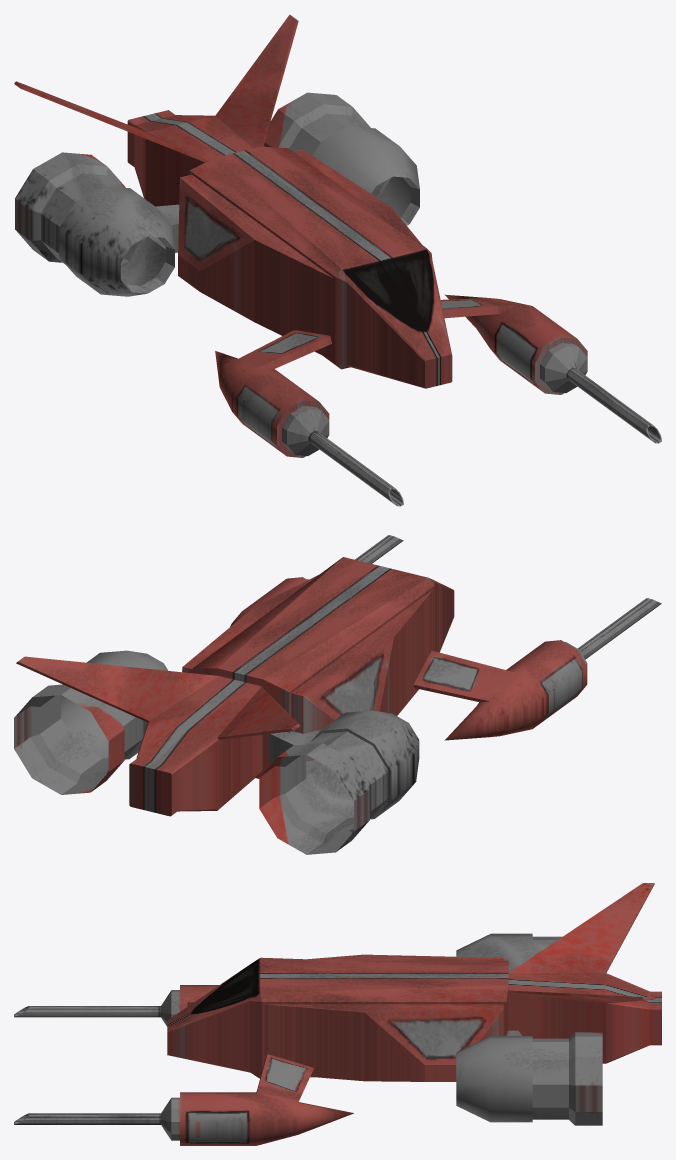
The model's file is frogfish team 2.FBX.
3 views of the same model, one above another, from view 1: azimuth 30°, elevation 25°; view 2: azimuth 150°, elevation 25°; view 3: azimuth 270°, elevation 25° (orthographic). The views are drawn at different scales.
Visible parts, largest first — view 1: Box001; view 2: Box001; view 3: Box001.
Part boxes in pixels (x1,y1,x2,y2): Box001: (14,14,661,506); Box001: (14,535,661,854); Box001: (14,883,661,1145).
Size of the model in its own units: 81.51 by 40.22 by 158.
1 material, 1 textured.
